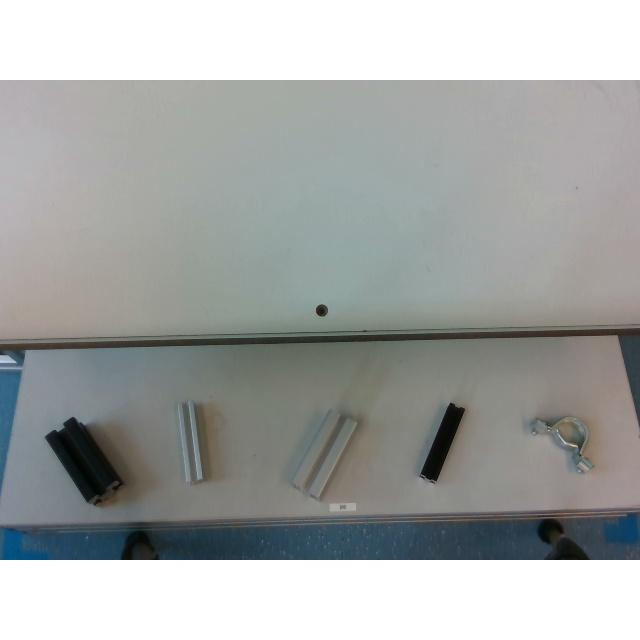F20_20_B: (420, 403, 464, 483)
F20_20_G: (177, 401, 203, 484)
Housing: (531, 416, 593, 472)
S40_40_B: (46, 417, 122, 503)
S40_40_G: (292, 408, 356, 499)
